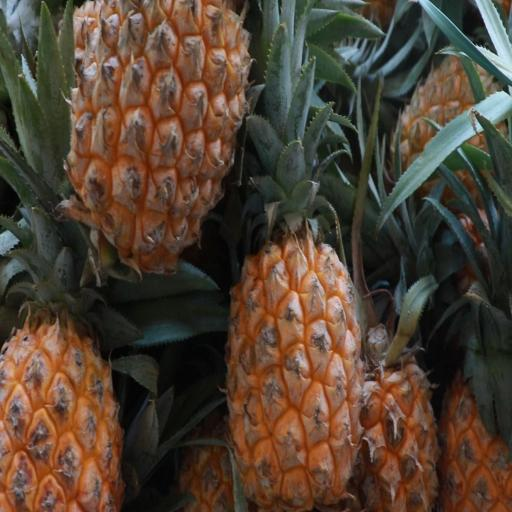Pineapple - v8 v1: (68, 0, 254, 281), (226, 151, 368, 512), (0, 302, 126, 512), (437, 187, 512, 512), (352, 313, 443, 512)
